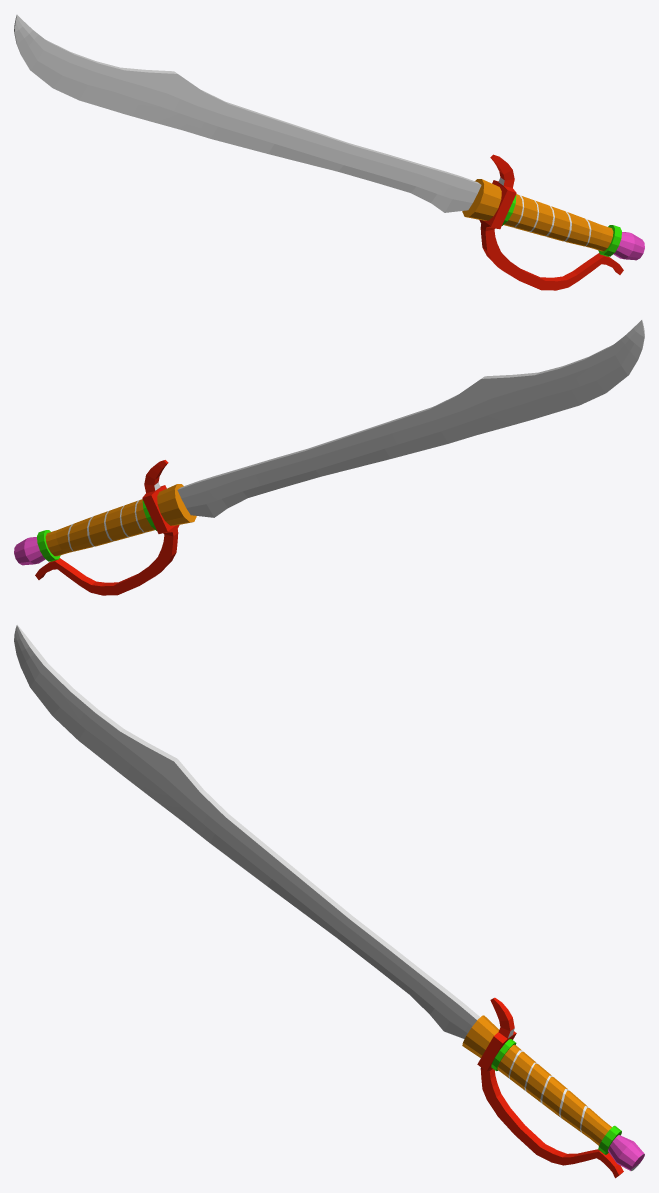
File: CorsairSword.fbx
3 views of the same model, one above another, from view 1: azimuth 30°, elevation 25°; view 2: azimuth 150°, elevation 25°; view 3: azimuth 330°, elevation 25° (orthographic).
Parts seen in each view (by area): view 1: Corsair sword; view 2: Corsair sword; view 3: Corsair sword.
Boxes of the visible parts, x1,y1,x2,y2 form: Corsair sword: (14, 15, 644, 290); Corsair sword: (14, 320, 644, 595); Corsair sword: (14, 624, 644, 1178).
Bounding box in the file's own units: 330 × 204 × 12.94.
